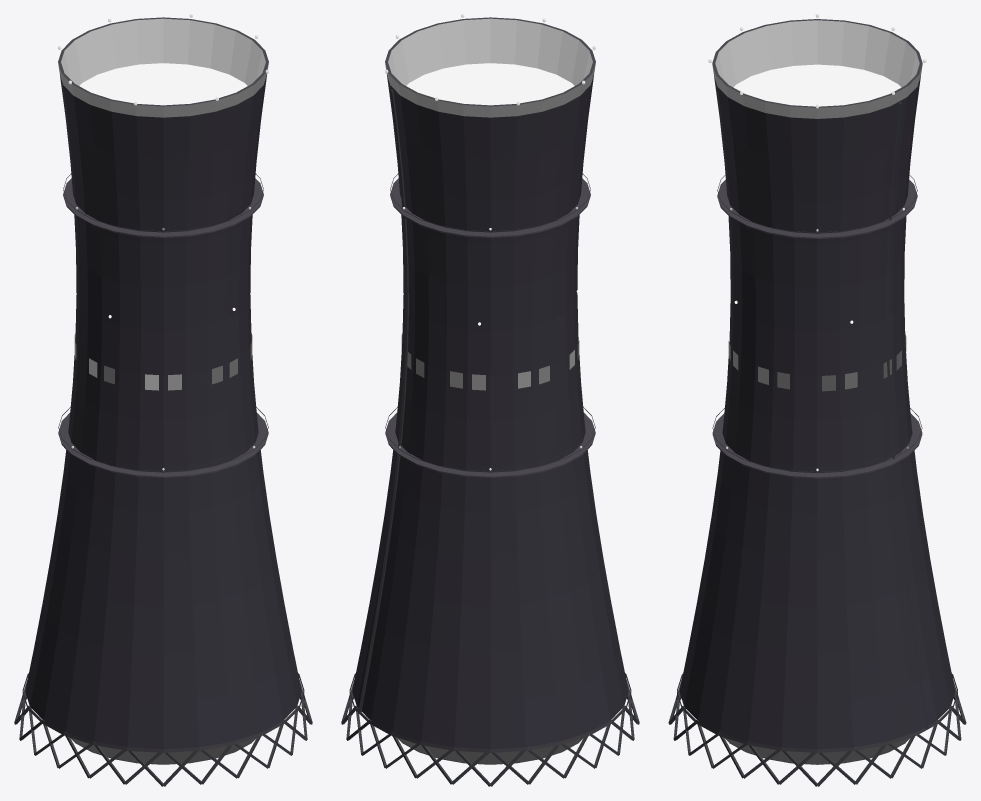
File: cond_stack_b.glb
3 views of the same model, side by side, from view 1: azimuth 30°, elevation 25°; view 2: azimuth 150°, elevation 25°; view 3: azimuth 270°, elevation 25° (orthographic).
Visible parts, largest first — view 1: cond_stack_b; view 2: cond_stack_b; view 3: cond_stack_b.
Boxes of the visible parts, <box> form: cond_stack_b: <box>14,14,312,786</box>; cond_stack_b: <box>341,14,639,786</box>; cond_stack_b: <box>668,14,966,786</box>.
Size of the model in its own units: 59.75 by 147 by 59.75.
Materials: 6 (2 with a texture image).
